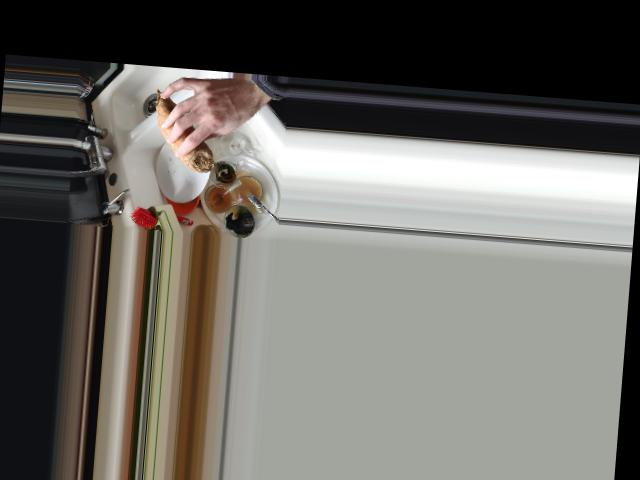sweet_potato: (151, 88, 218, 171)
